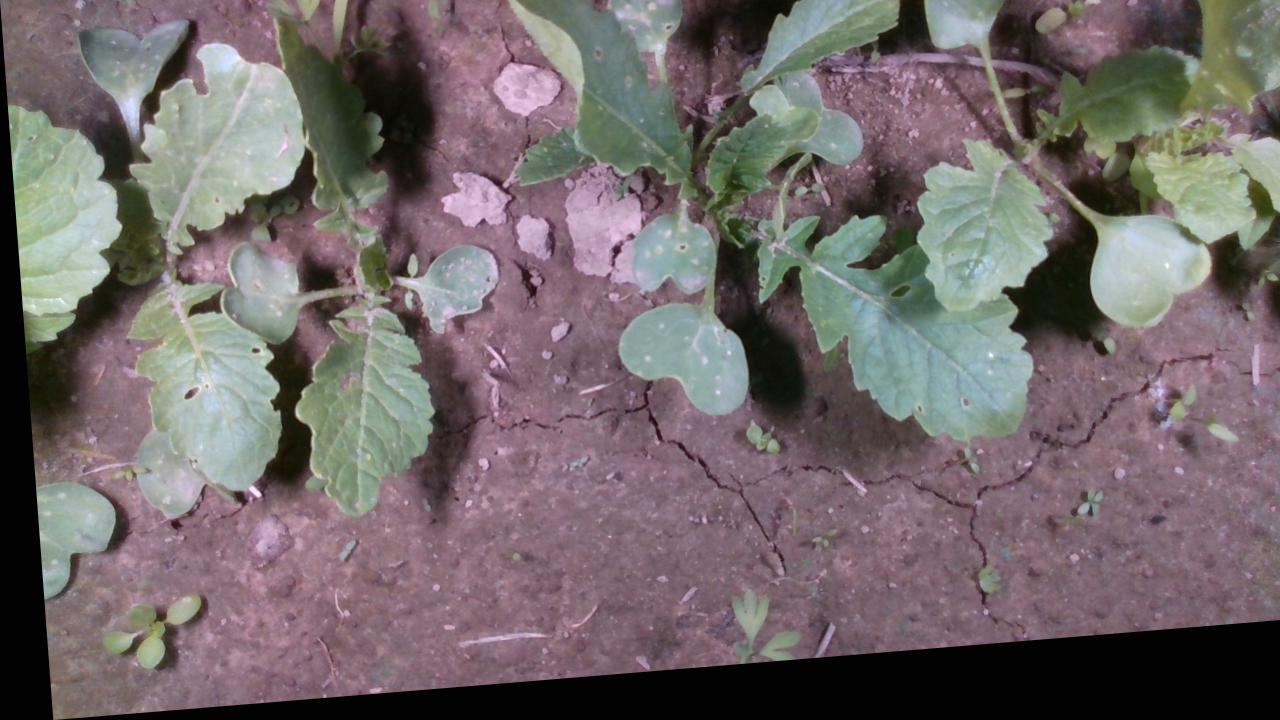weed: (734, 430, 775, 470), (1156, 402, 1191, 440), (1063, 500, 1097, 536), (798, 537, 832, 562), (950, 460, 971, 492), (1230, 319, 1251, 347)
